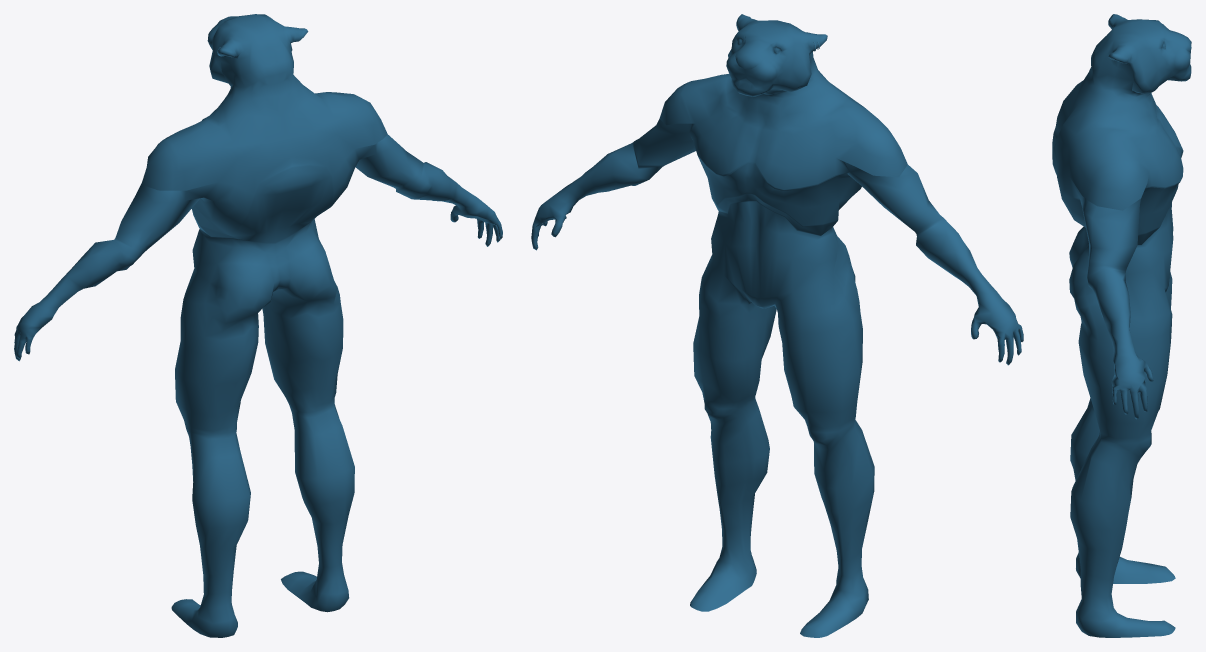
Rendered from Body.FBX.
The picture shows the model from 3 angles, left to right: view 1: azimuth 30°, elevation 25°; view 2: azimuth 150°, elevation 25°; view 3: azimuth 270°, elevation 25°; orthographic projection.
Visible parts, largest first — view 1: Body; view 2: Body; view 3: Body.
Boxes of the visible parts, <box> form: Body: <box>14,14,502,637</box>; Body: <box>531,14,1023,637</box>; Body: <box>1052,14,1191,637</box>.
Size of the model in its own units: 78.21 by 89.58 by 19.62.
